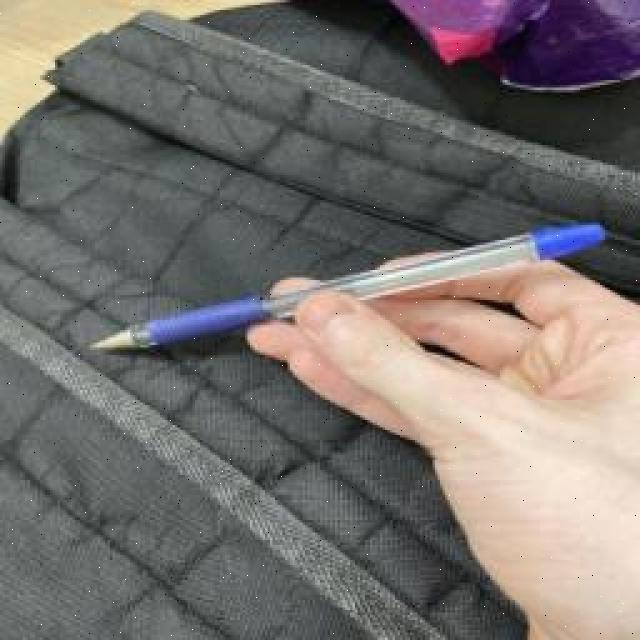pen: (89, 223, 607, 356)
